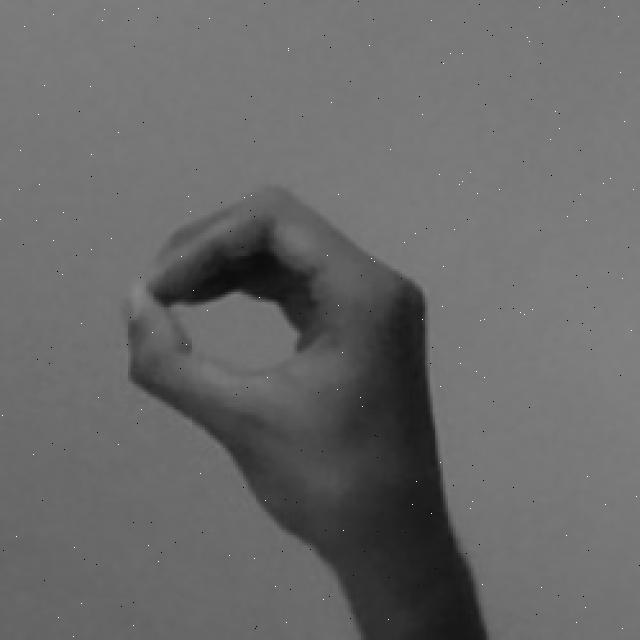O: (124, 182, 488, 640)
